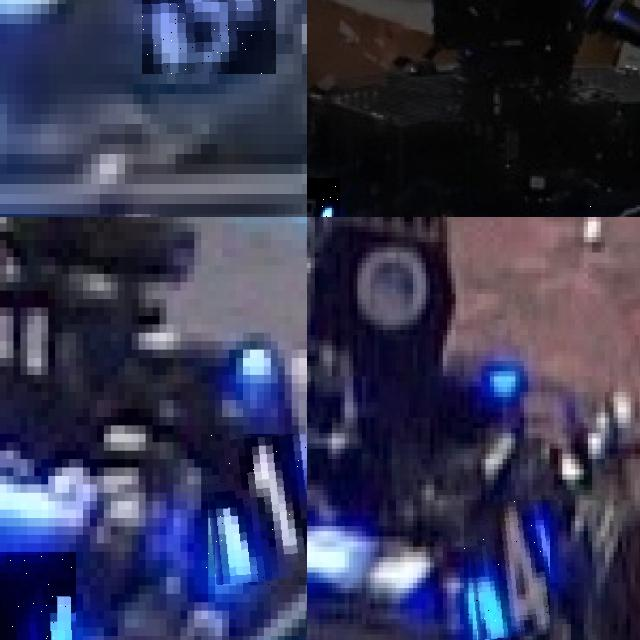B1: (201, 433, 307, 585), (0, 551, 75, 640)
B4: (464, 500, 550, 640)
B5: (141, 0, 276, 74)
